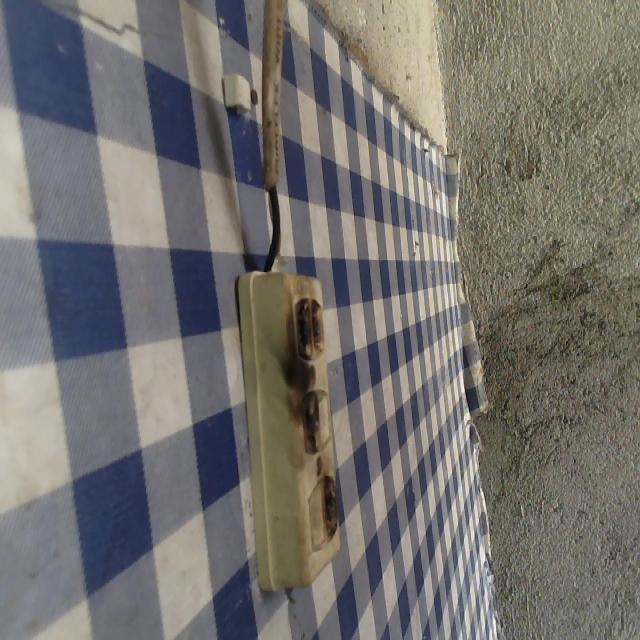-: (275, 285, 330, 367), (295, 385, 327, 460), (320, 476, 337, 539)
